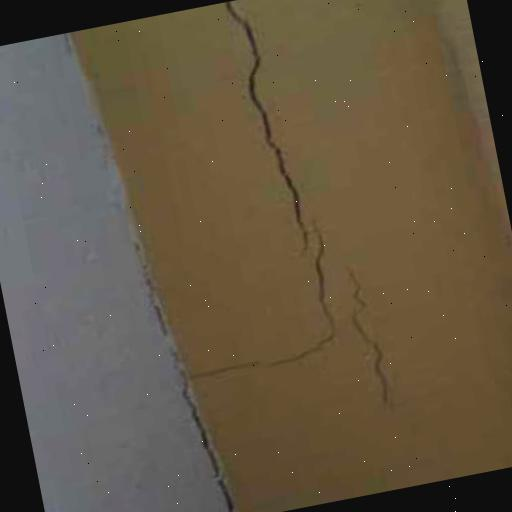spalling: (197, 0, 344, 384), (344, 261, 395, 400)
